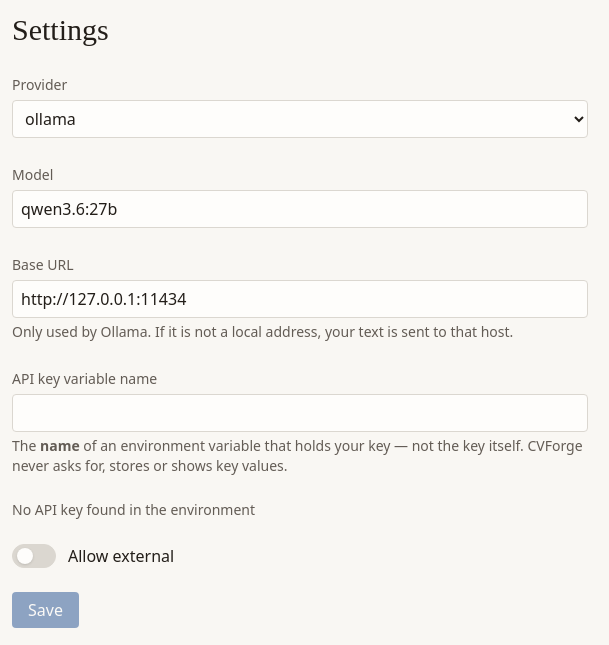
Test: SettingsPage › refreshes the key status from the response
This screenshot has width=609, height=645.
Step 1. Type "MY_KEY" into the field labelled "API key variable name" → (300, 413), box [12,394,588,432]
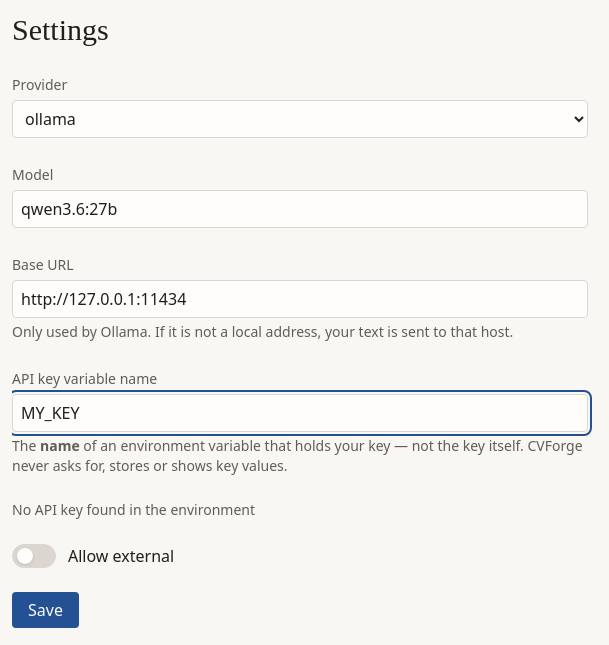
Step 2. Click the button "Save" → (45, 610), box [12,592,79,628]
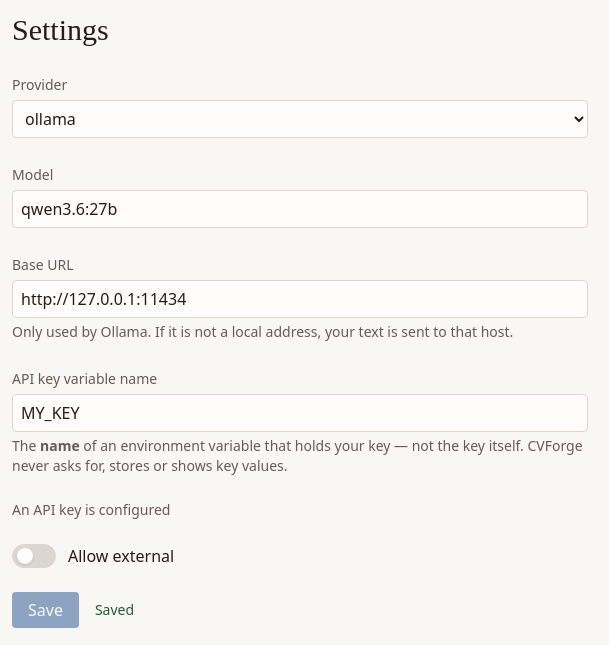
expect the text "An API key is configured" is shown: met, box [12,500,170,519]
